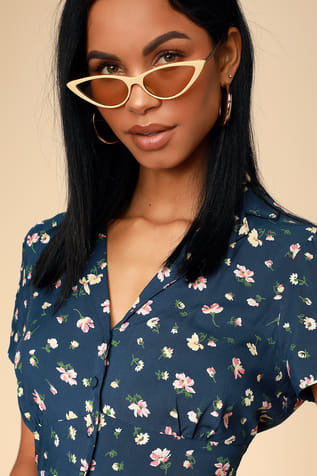C_short blouse: (5, 180, 317, 470)
